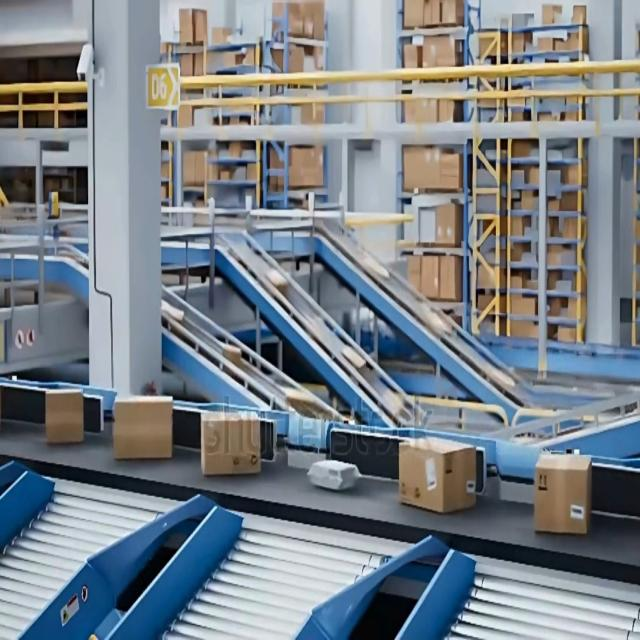product 1: (398, 436, 477, 514), (200, 409, 261, 476), (112, 393, 173, 460)
product 2: (306, 458, 360, 491)
